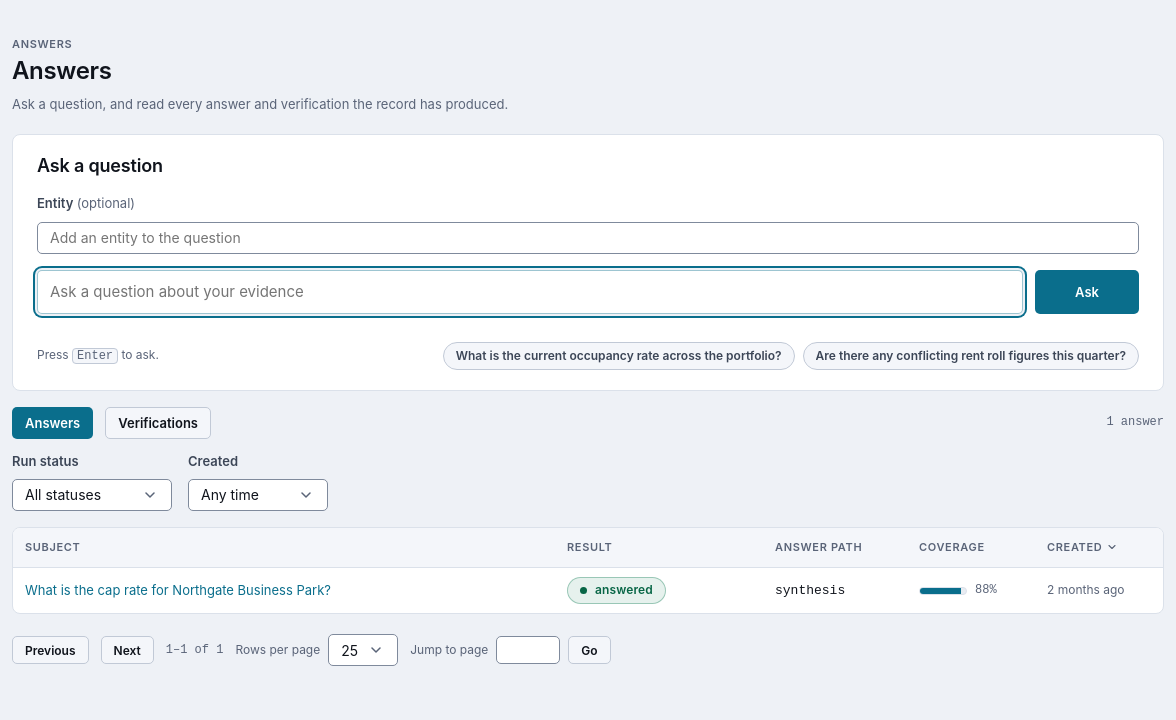
Test: AnswersPage › drops the run status and date filters on a kind switch, in the URL and in the controls
The width and height of the screenshot is (1176, 720).
Expected: the text "What is the cap rate for Northgate Business Park?" is shown, [25,582,331,598]
Select "Failed" in the dropdown labelled "Run status": (92, 495) [12,479,172,511]
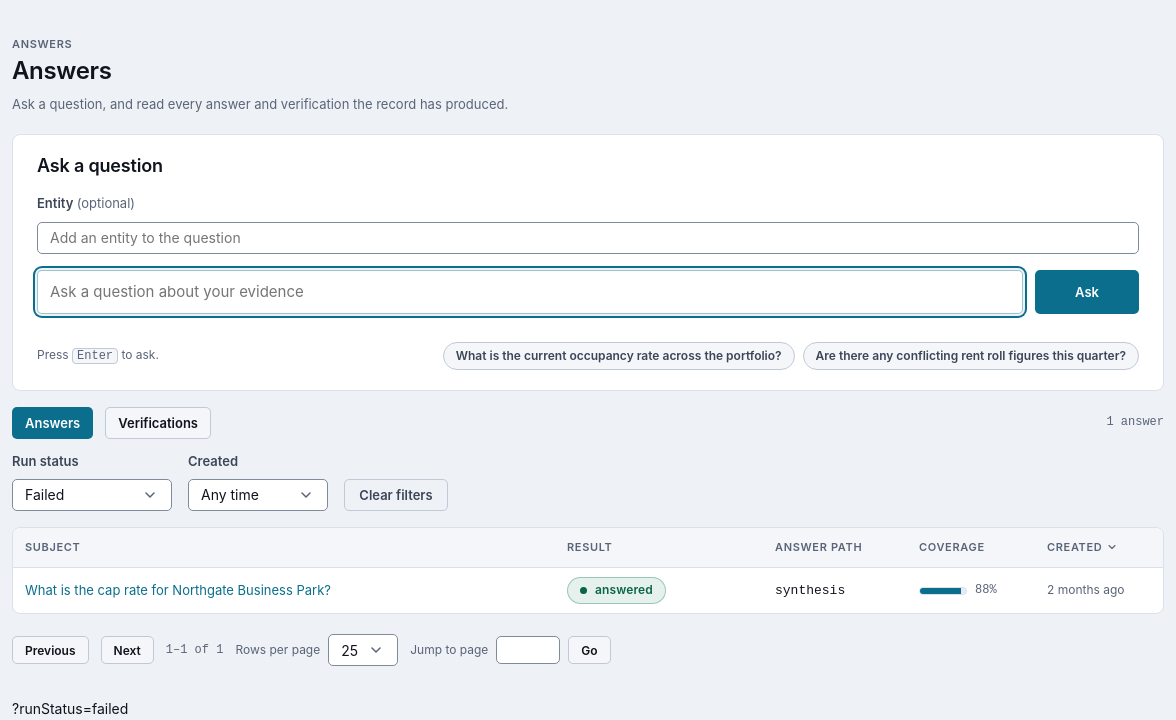
Select "Last 7 days" in the dropdown labelled "Created": (258, 495) [188,479,328,511]
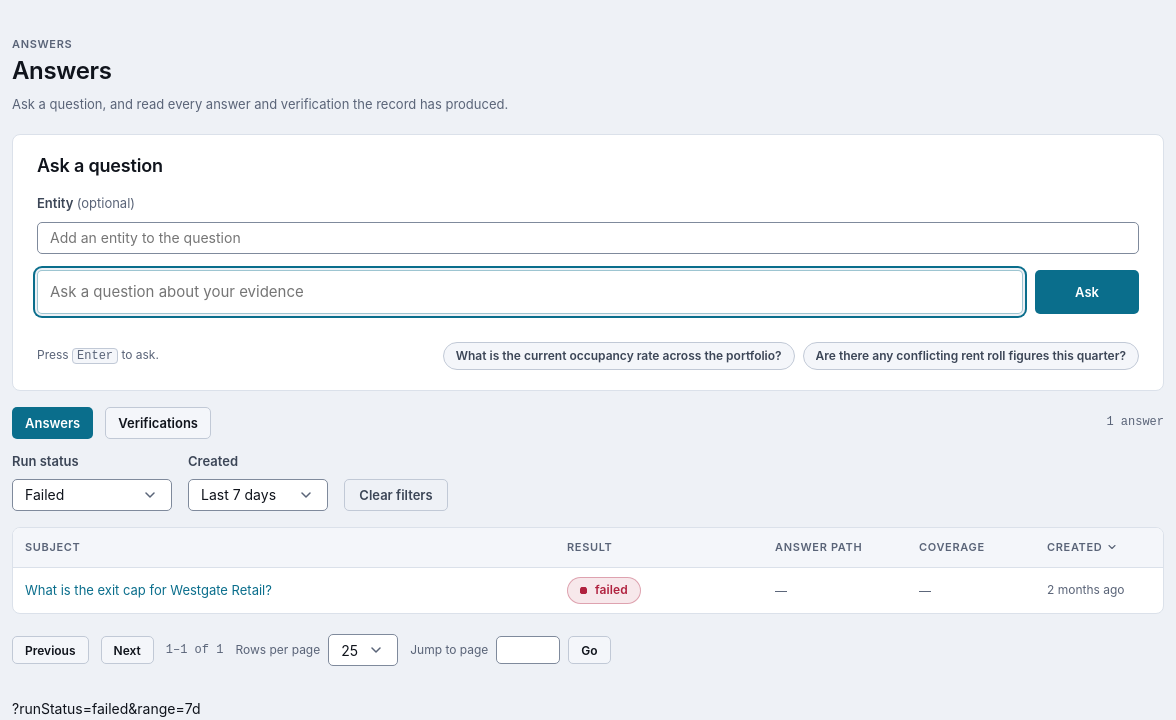
Now the text "What is the exit cap for Westgate Retail?" is shown, box [25,582,272,598]
Now the text named "current search" reads "?runStatus=failed&range=7d", box [12,700,200,717]
Click the button "Verifications": click(158, 422) [105,406,211,438]
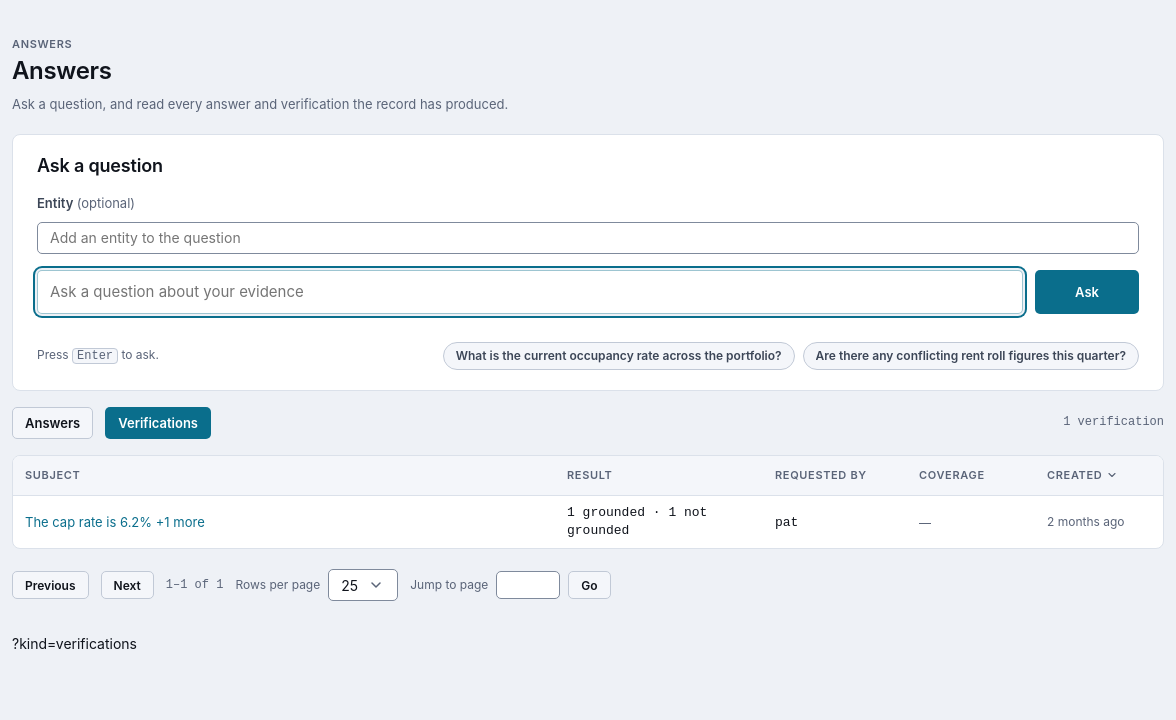
Now the text "1 grounded · 1 not grounded" is shown, box [555,496,763,548]
Now the text named "current search" reads "?kind=verifications", box [12,635,137,652]
Click the button "Answers": click(53, 422) [12,406,93,438]
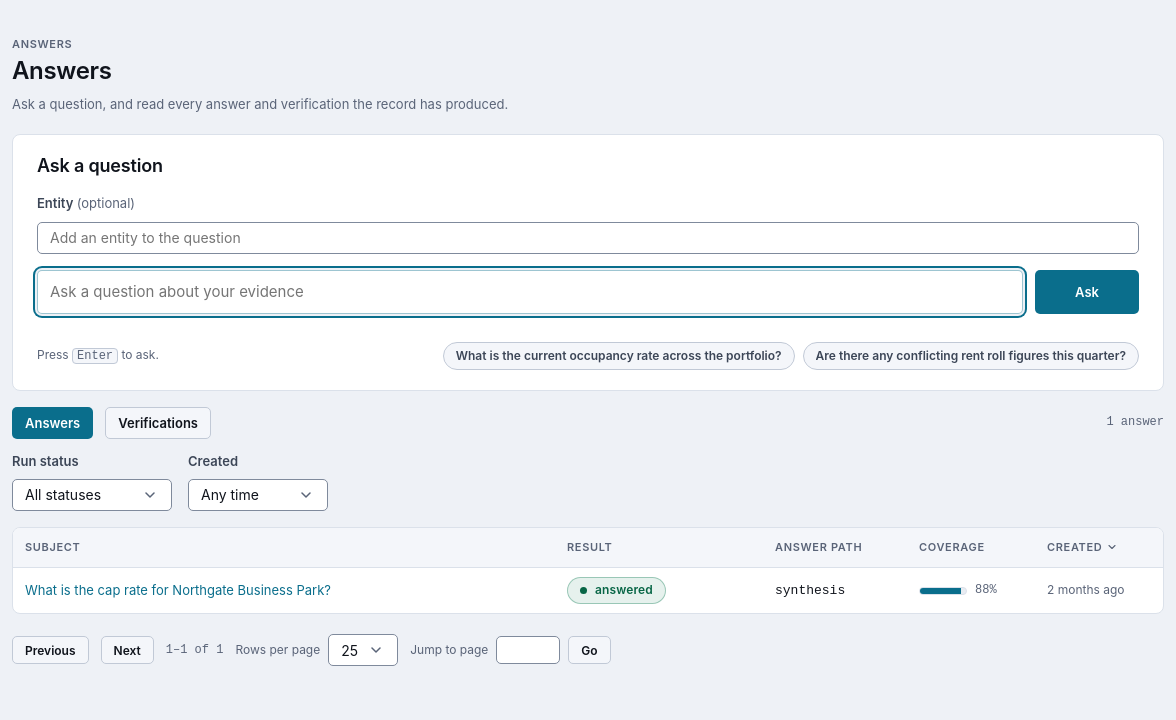
Now the text "What is the cap rate for Northgate Business Park?" is shown, box [25,582,331,598]
Now the dropdown labelled "Run status" shows "All statuses", box [12,479,172,511]
Now the dropdown labelled "Created" shows "Any time", box [188,479,328,511]
